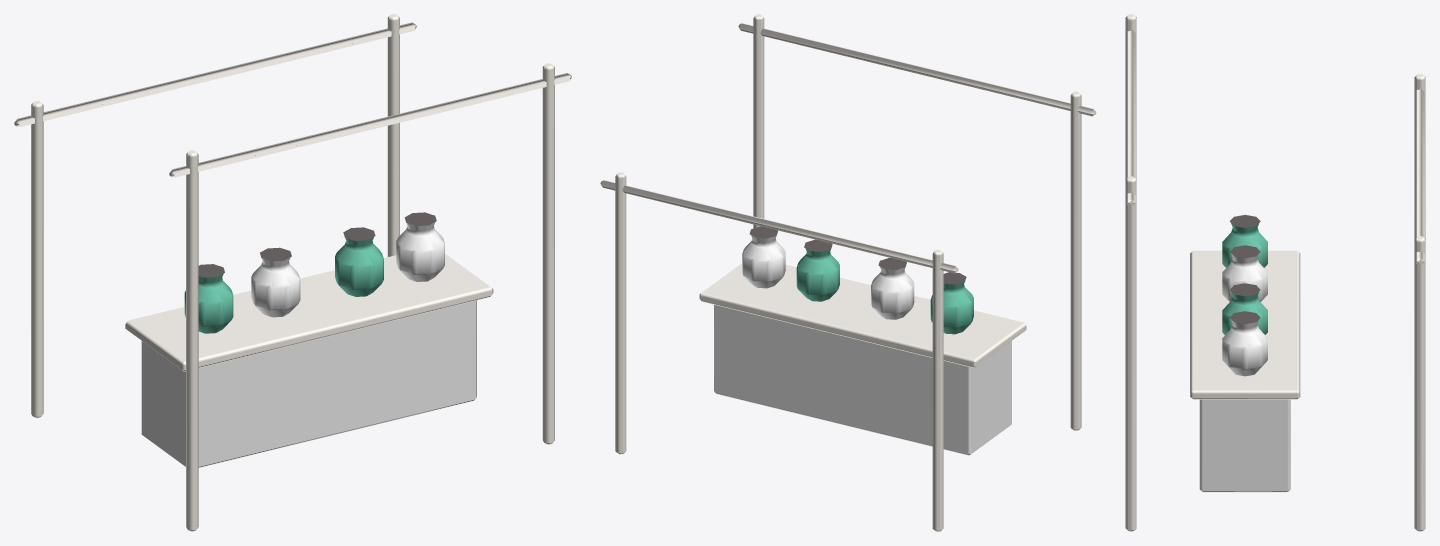
The model's file is prop_awning.glb.
3 renders of one model, left to right at view 1: azimuth 30°, elevation 25°; view 2: azimuth 150°, elevation 25°; view 3: azimuth 270°, elevation 25°, orthographic. The views are drawn at different scales.
Visible parts, largest first — view 1: prop_awning; view 2: prop_awning; view 3: prop_awning.
Part boxes in pixels (x1,y1,x2,y2): prop_awning: [14, 14, 571, 531]; prop_awning: [600, 14, 1096, 531]; prop_awning: [1125, 14, 1425, 531].
Bounding box in the file's own units: 3.6 × 3.25 × 2.5.
